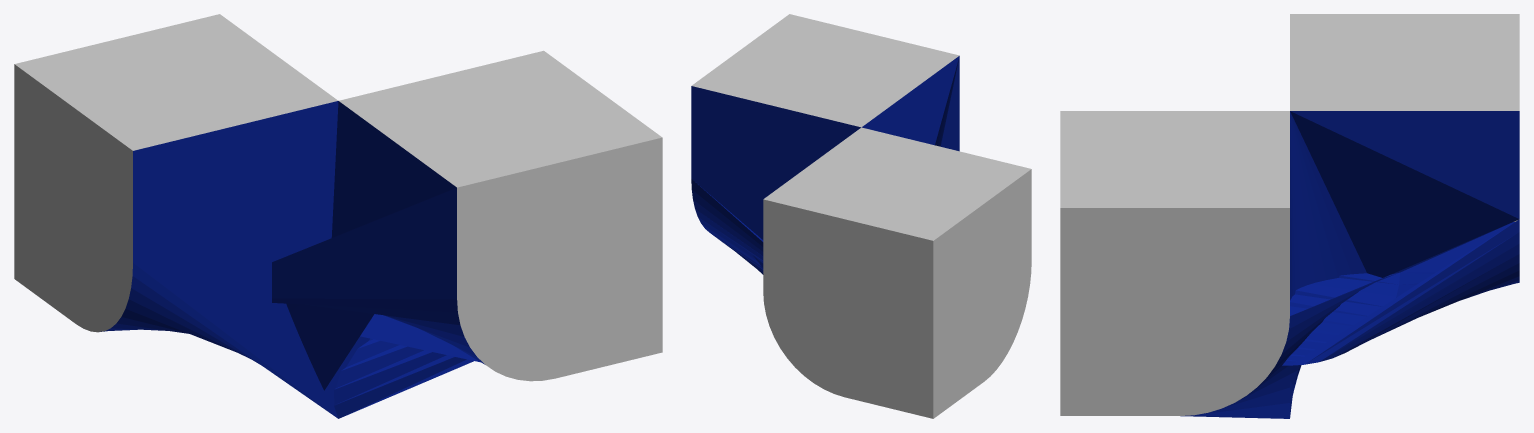
File: case_80.fbx
The picture shows the model from 3 angles, left to right: view 1: azimuth 30°, elevation 25°; view 2: azimuth 150°, elevation 25°; view 3: azimuth 270°, elevation 25°; orthographic projection. The views are drawn at different scales.
Parts seen in each view (by area): view 1: case_80; view 2: case_80; view 3: case_80.
Boxes of the visible parts, x1,y1,x2,y2 form: case_80: [14, 14, 662, 418]; case_80: [691, 14, 1031, 418]; case_80: [1060, 14, 1519, 418].
Size of the model in its own units: 1 by 1 by 0.74.
